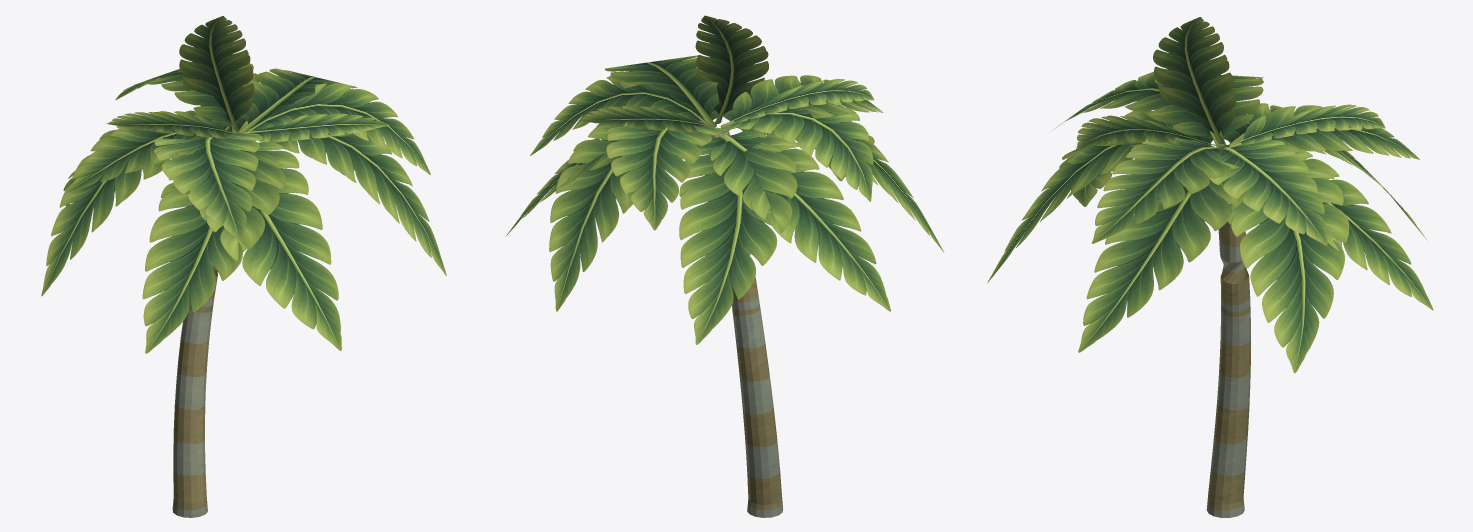
File: palm2_a_liked_frond_v4.glb
3 renders of one model, left to right at view 1: azimuth 30°, elevation 25°; view 2: azimuth 150°, elevation 25°; view 3: azimuth 270°, elevation 25°, orthographic. The views are drawn at different scales.
Visible parts, largest first — view 1: palm2_a_liked_frond_v4; view 2: palm2_a_liked_frond_v4; view 3: palm2_a_liked_frond_v4.
Boxes of the visible parts, bbox=[...] form: palm2_a_liked_frond_v4: bbox=[41, 16, 446, 517]; palm2_a_liked_frond_v4: bbox=[505, 15, 944, 517]; palm2_a_liked_frond_v4: bbox=[987, 17, 1433, 517].
Size of the model in its own units: 3.77 by 3.86 by 3.77.
2 materials, 2 textured.
